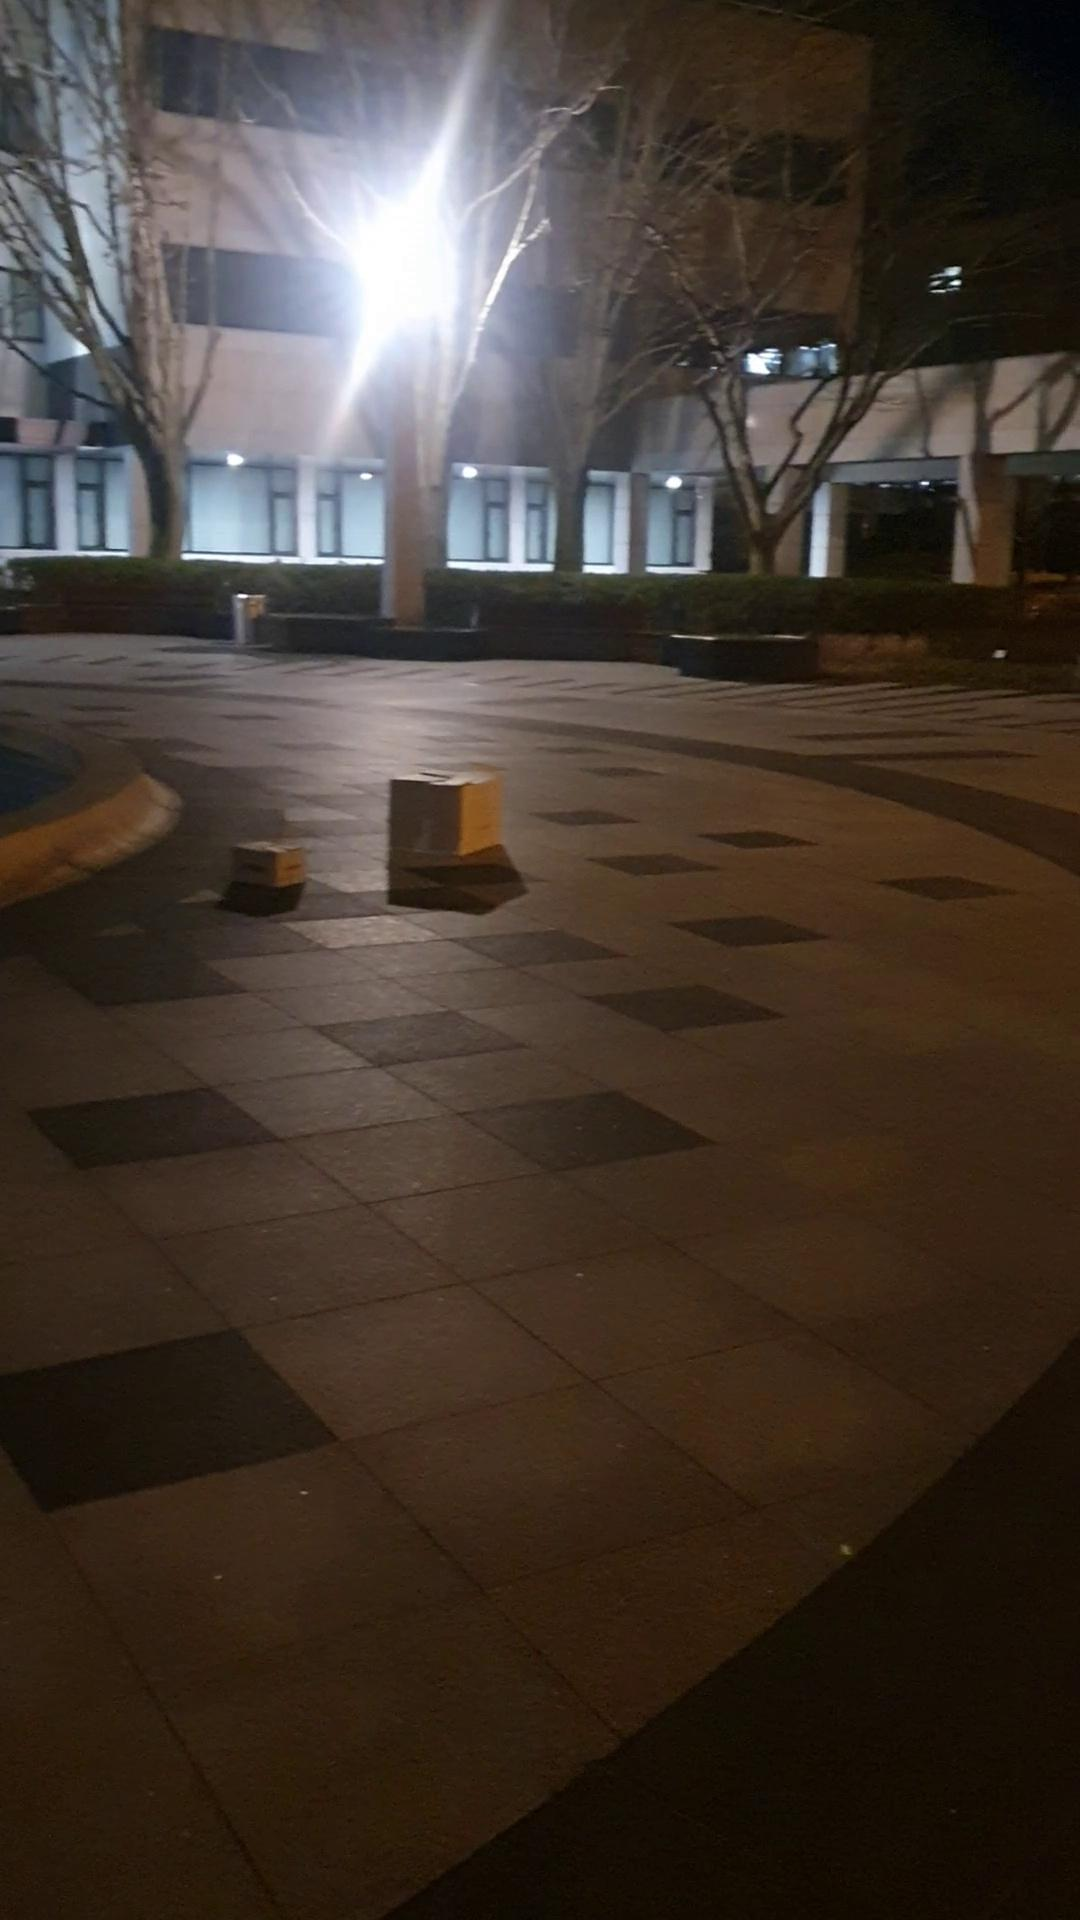Box: (382, 758, 506, 868), (233, 835, 315, 897)
